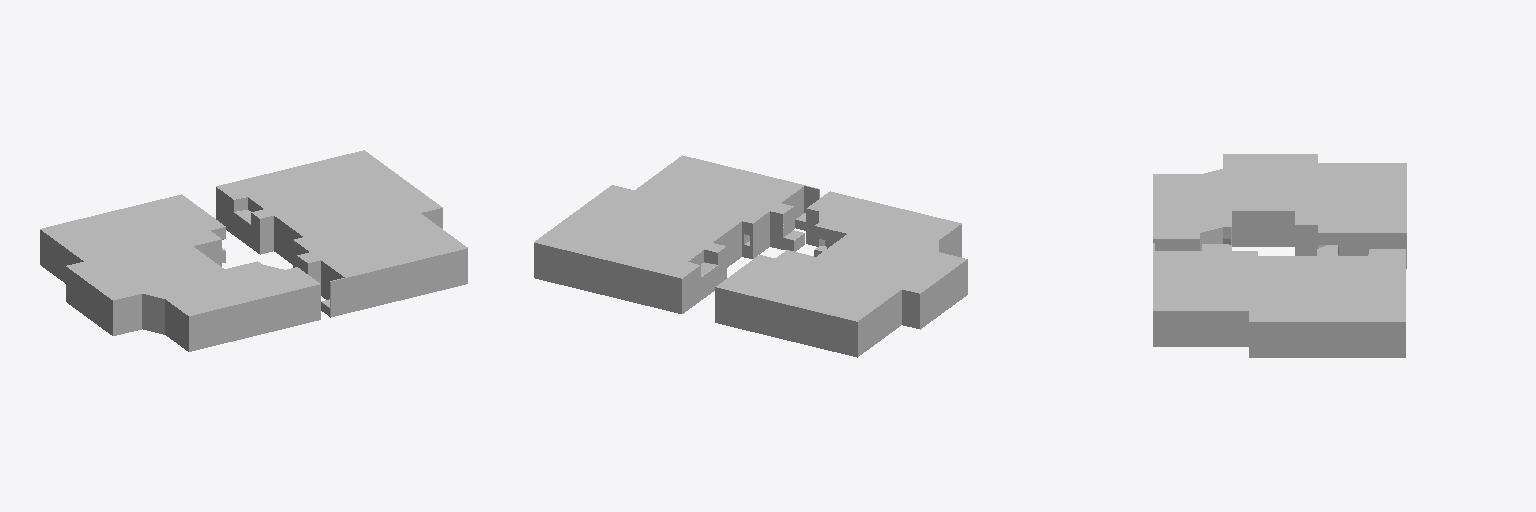
The model's file is RomeOneTest.obj.
3 views of the same model, side by side, from view 1: azimuth 30°, elevation 25°; view 2: azimuth 150°, elevation 25°; view 3: azimuth 270°, elevation 25° (orthographic).
Visible parts, largest first — view 1: Cube.006_Cube.005; view 2: Cube.006_Cube.005; view 3: Cube.006_Cube.005.
Boxes of the visible parts, box(x1,y1,x2,y2) form: Cube.006_Cube.005: box(40, 150, 467, 351); Cube.006_Cube.005: box(534, 155, 967, 357); Cube.006_Cube.005: box(1153, 154, 1406, 357).
Bounding box in the file's own units: 460 × 45.84 × 295.